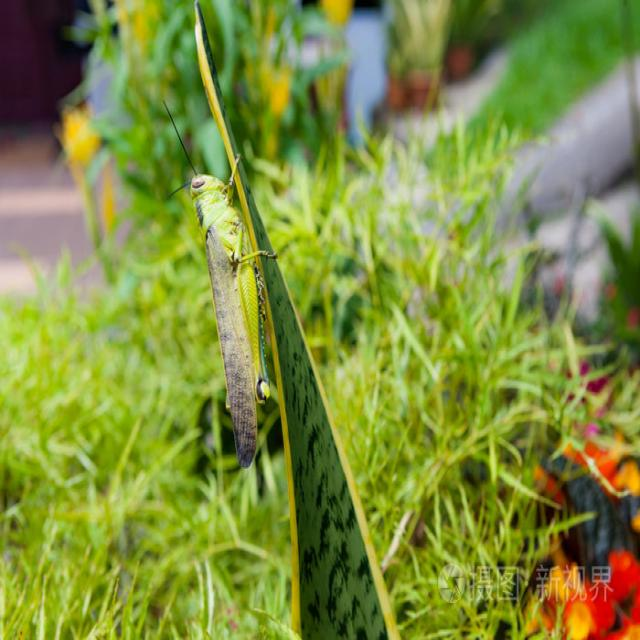ZhaMeng: (178, 131, 287, 486)
